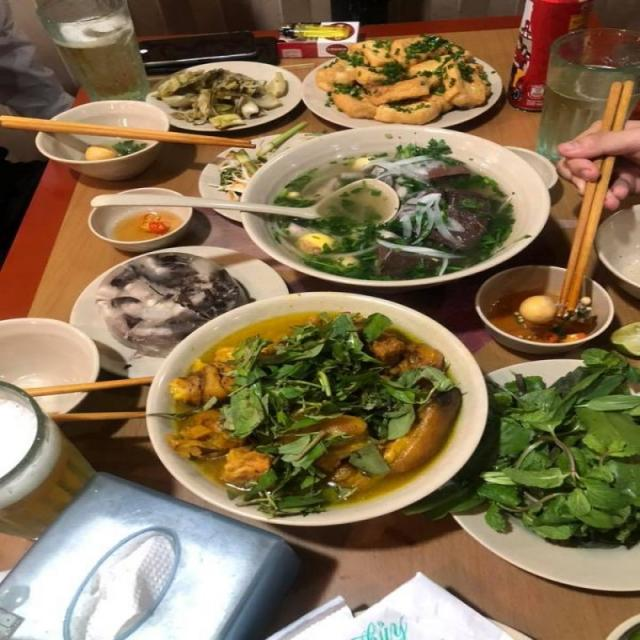canh: (167, 318, 439, 504), (257, 140, 527, 270)
dau hu chien: (294, 40, 502, 121)
